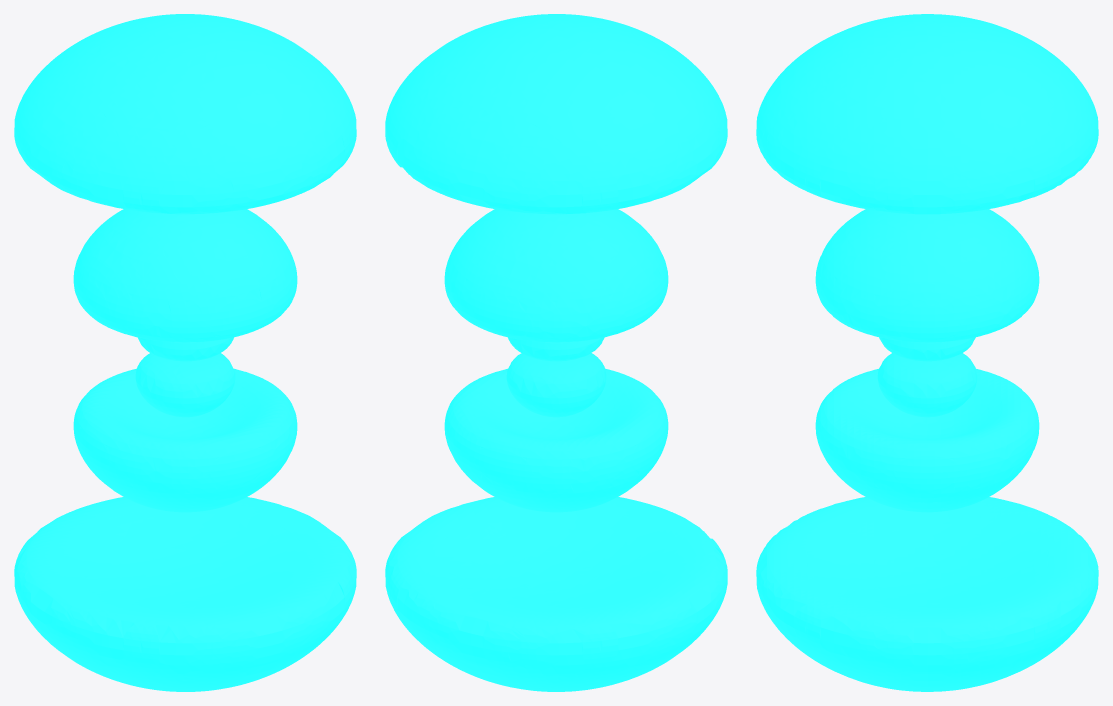
3 views of the same model, side by side, from view 1: azimuth 30°, elevation 25°; view 2: azimuth 150°, elevation 25°; view 3: azimuth 270°, elevation 25° (orthographic).
Visible parts, largest first — view 1: 4pz; view 2: 4pz; view 3: 4pz.
Boxes of the visible parts, x1,y1,x2,y2 form: 4pz: [14, 14, 356, 691]; 4pz: [385, 14, 727, 691]; 4pz: [756, 14, 1098, 691].
Size of the model in its own units: 11.91 by 24.38 by 11.91.
